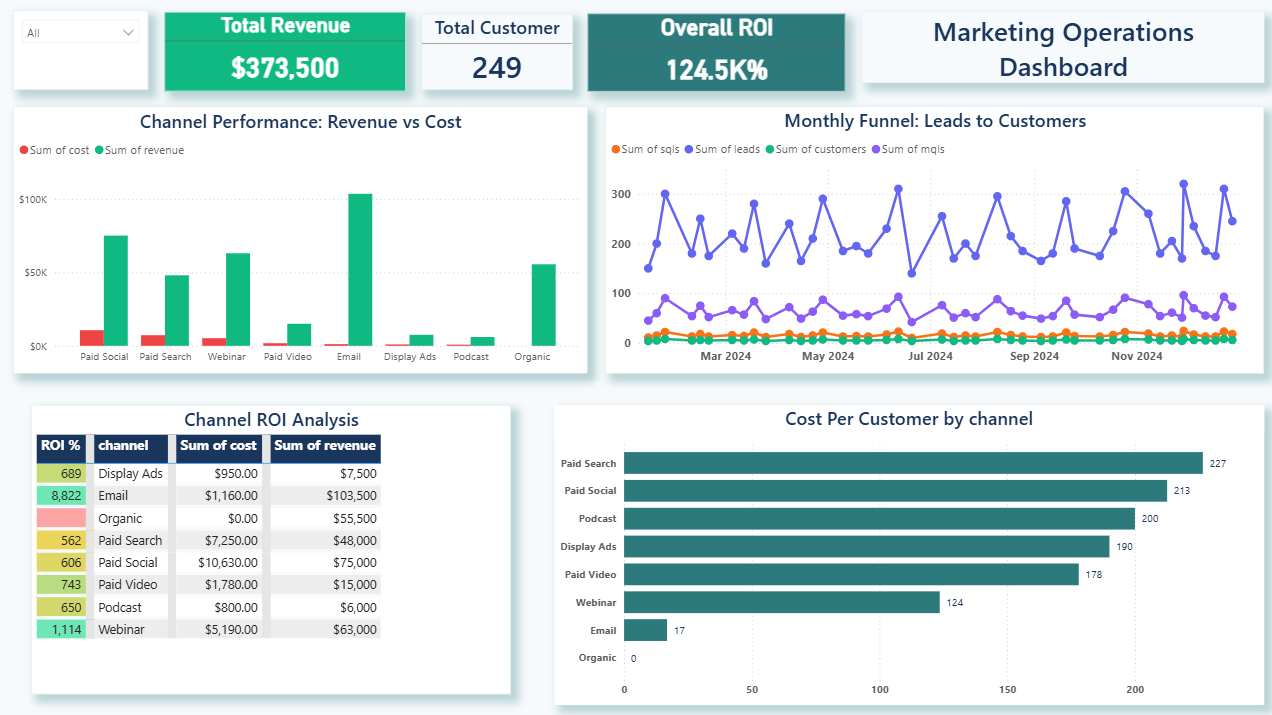

What the dashboard file says about the page in this screenshot:
{"tool":"powerbi","page":{"name":"Page 1","canvas":[1280,720],"ordinal":0},"visuals":[{"type":"clusteredColumnChart","title":"Channel Performance: Revenue vs Cost","fields":{"Category":["public campaigns.channel"],"Y":["Sum(public campaigns.cost)","Sum(public campaigns.revenue)"]},"box":[25.4,128.3,605.6,281.9],"z":0},{"type":"lineChart","title":"Monthly Funnel: Leads to Customers","fields":{"Category":["public campaigns.campaign_date"],"Y":["Sum(public campaigns.sqls)","Sum(public campaigns.leads)","Sum(public campaigns.customers)","Sum(public campaigns.mqls)"]},"box":[654.9,128.3,604.2,270],"z":1000},{"type":"tableEx","title":"Channel ROI Analysis","fields":{"Values":["public campaigns.ROI %","public campaigns.channel","Sum(public campaigns.cost)","Sum(public campaigns.revenue)"]},"box":[25.4,422.2,605.6,281.9],"z":2000},{"type":"clusteredBarChart","fields":{"Y":["public campaigns.Cost Per Customer"],"Category":["public campaigns.channel"]},"box":[654.9,422.2,604.2,281.9],"z":3000},{"type":"card","title":"Total Customer","fields":{"Values":["Sum(public campaigns.customers)"]},"box":[381.9,17.9,177.5,89.5],"z":4000},{"type":"card","title":"Total Revenue","fields":{"Values":["Sum(public campaigns.revenue)"]},"box":[201.4,17.9,165.6,92.5],"z":5000},{"type":"card","title":"Overall ROI","fields":{"Values":["public campaigns.Overall ROI"]},"box":[574.3,19.4,189.5,91],"z":6000},{"type":"textbox","title":"Marketing Operations Dashboard","box":[775.7,19.4,471.4,82],"z":7000},{"type":"slicer","fields":{"Values":["public campaigns.channel"]},"box":[25.4,14.9,158.1,92.5],"z":8000}]}

Visuals, with their boxes in screenshot pixels (x1, y1, x2, y2), scaled from the page's 1280x720 canvas onto the 1272x715 screenshot:
"Channel Performance: Revenue vs Cost" clusteredColumnChart: box=[25, 127, 627, 407]
"Monthly Funnel: Leads to Customers" lineChart: box=[651, 127, 1251, 396]
"Channel ROI Analysis" tableEx: box=[25, 419, 627, 699]
clusteredBarChart - public campaigns.Cost Per Customer x public campaigns.channel: box=[651, 419, 1251, 699]
"Total Customer" card: box=[380, 18, 556, 107]
"Total Revenue" card: box=[200, 18, 365, 110]
"Overall ROI" card: box=[571, 19, 759, 110]
"Marketing Operations Dashboard" textbox: box=[771, 19, 1239, 101]
slicer - public campaigns.channel: box=[25, 15, 182, 107]
